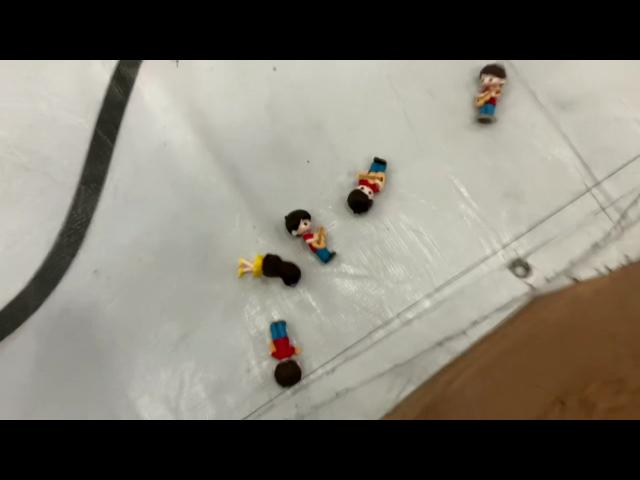man: (280, 208, 340, 266), (264, 316, 306, 394), (346, 154, 392, 218), (472, 62, 511, 126)
woman: (234, 250, 304, 290)
